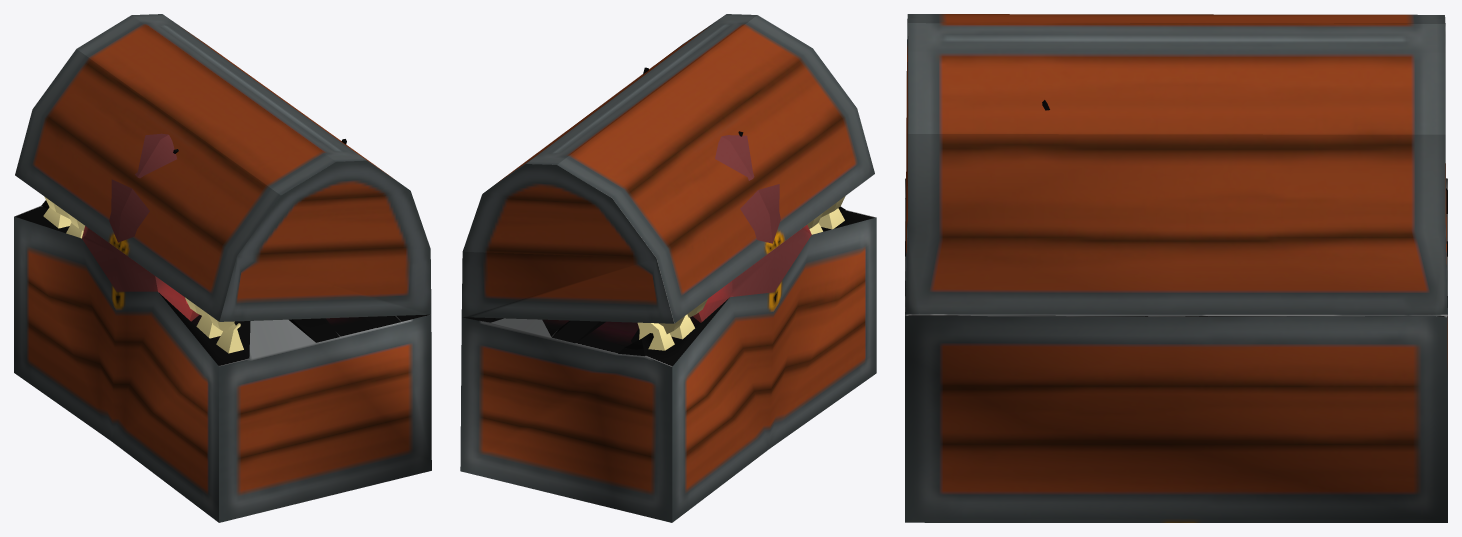
Rendered from cofrearana_000017.obj.
3 renders of one model, left to right at view 1: azimuth 30°, elevation 25°; view 2: azimuth 150°, elevation 25°; view 3: azimuth 270°, elevation 25°, orthographic. The views are drawn at different scales.
Parts seen in each view (by area): view 1: cofreArana:Mesh; view 2: cofreArana:Mesh; view 3: cofreArana:Mesh.
Part boxes in pixels (<box>): cofreArana:Mesh: <box>14,14,431,522</box>; cofreArana:Mesh: <box>460,14,876,522</box>; cofreArana:Mesh: <box>905,14,1447,522</box>.
Bounding box in the file's own units: 3.81 × 5.65 × 6.34.
